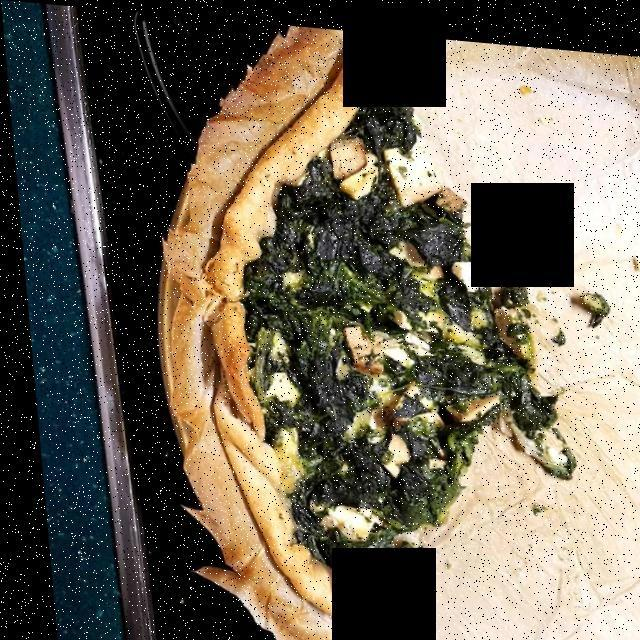quiche: (173, 34, 564, 638)
tofu: (300, 127, 445, 549)
